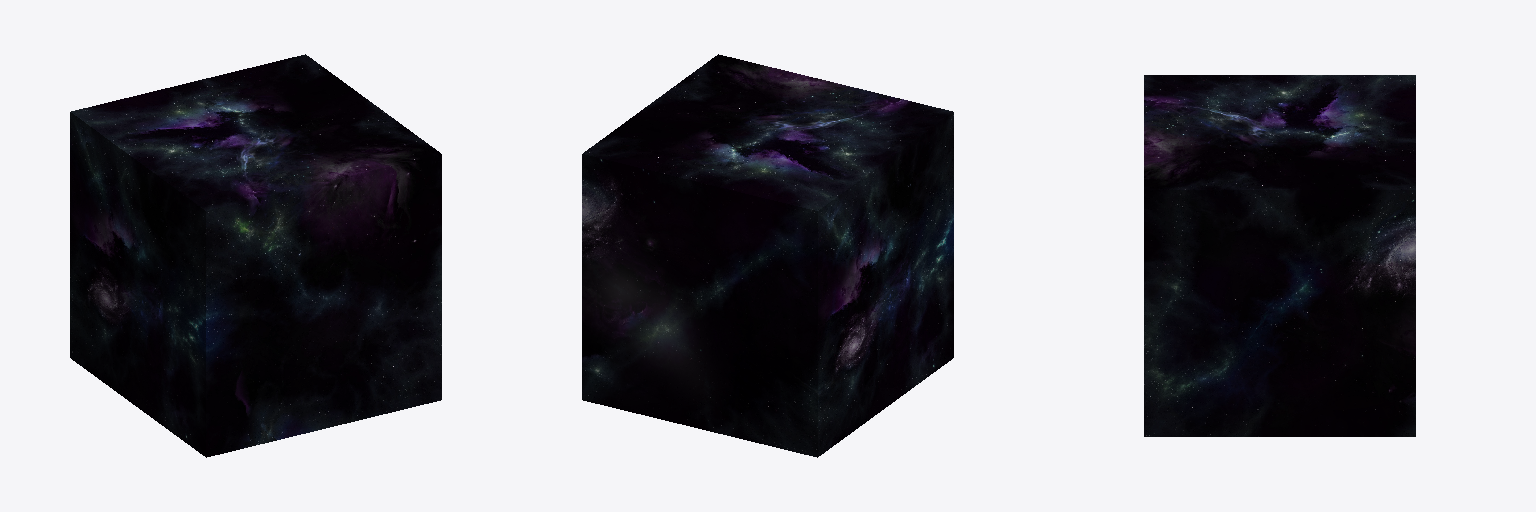
The picture shows the model from 3 angles: view 1: azimuth 30°, elevation 25°; view 2: azimuth 150°, elevation 25°; view 3: azimuth 270°, elevation 25°; orthographic projection.
Parts seen in each view (by area): view 1: ƽ��_2, ƽ��_4, ƽ��_1; view 2: ƽ��_3, ƽ��_4, ƽ��_1; view 3: ƽ��_5, ƽ��_1.
Part boxes in pixels (bbox=[...]): ƽ��_2: bbox=[206, 154, 441, 457]; ƽ��_4: bbox=[70, 112, 205, 456]; ƽ��_1: bbox=[71, 54, 440, 210]; ƽ��_3: bbox=[582, 154, 817, 457]; ƽ��_4: bbox=[818, 112, 953, 456]; ƽ��_1: bbox=[583, 54, 952, 210]; ƽ��_5: bbox=[1144, 190, 1415, 436]; ƽ��_1: bbox=[1144, 75, 1415, 189].
Bounding box in the file's own units: 157 × 157 × 157.
6 materials, 6 textured.